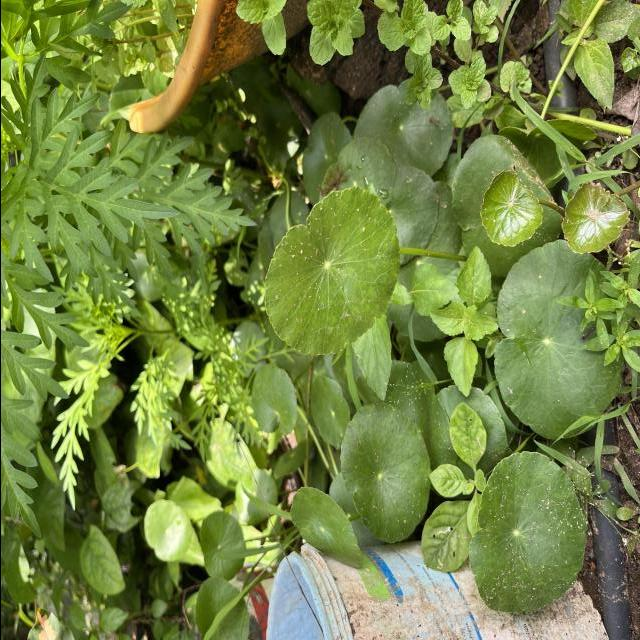Bacopa monnieri: (491, 238, 625, 442), (262, 184, 402, 357), (466, 450, 588, 616), (338, 400, 432, 546), (288, 485, 362, 571), (558, 180, 632, 258), (477, 168, 544, 248)
